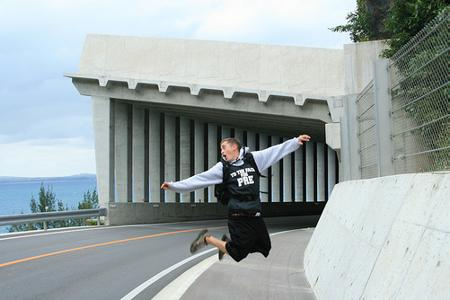person: (163, 134, 313, 264)
